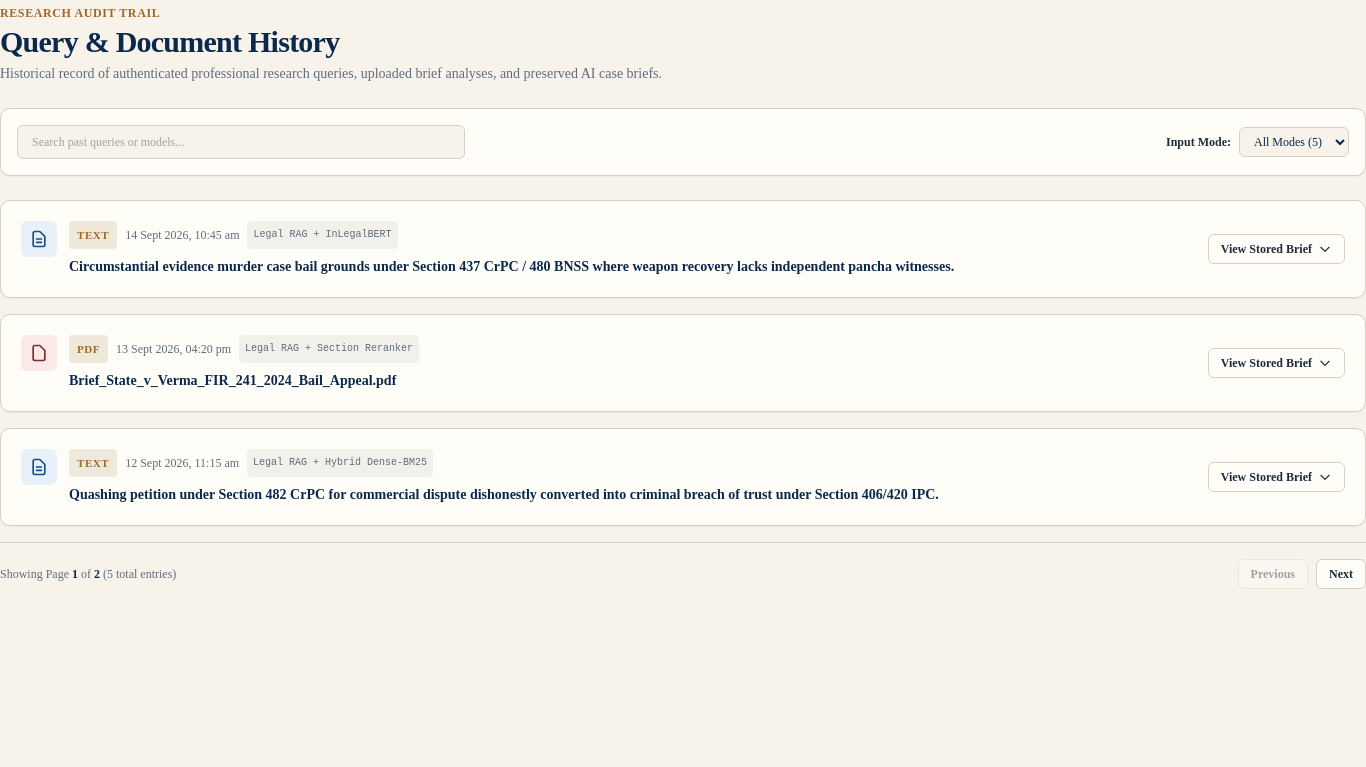
Professional Query History Page › expands stored case brief on button click
Check: the element with test id "history-list" is shown, box [0,200,1365,589]
Click the button "View Stored Brief" in the row of "Legal RAG + InLegalBERT" at (1276, 249), box [1208,234,1345,264]
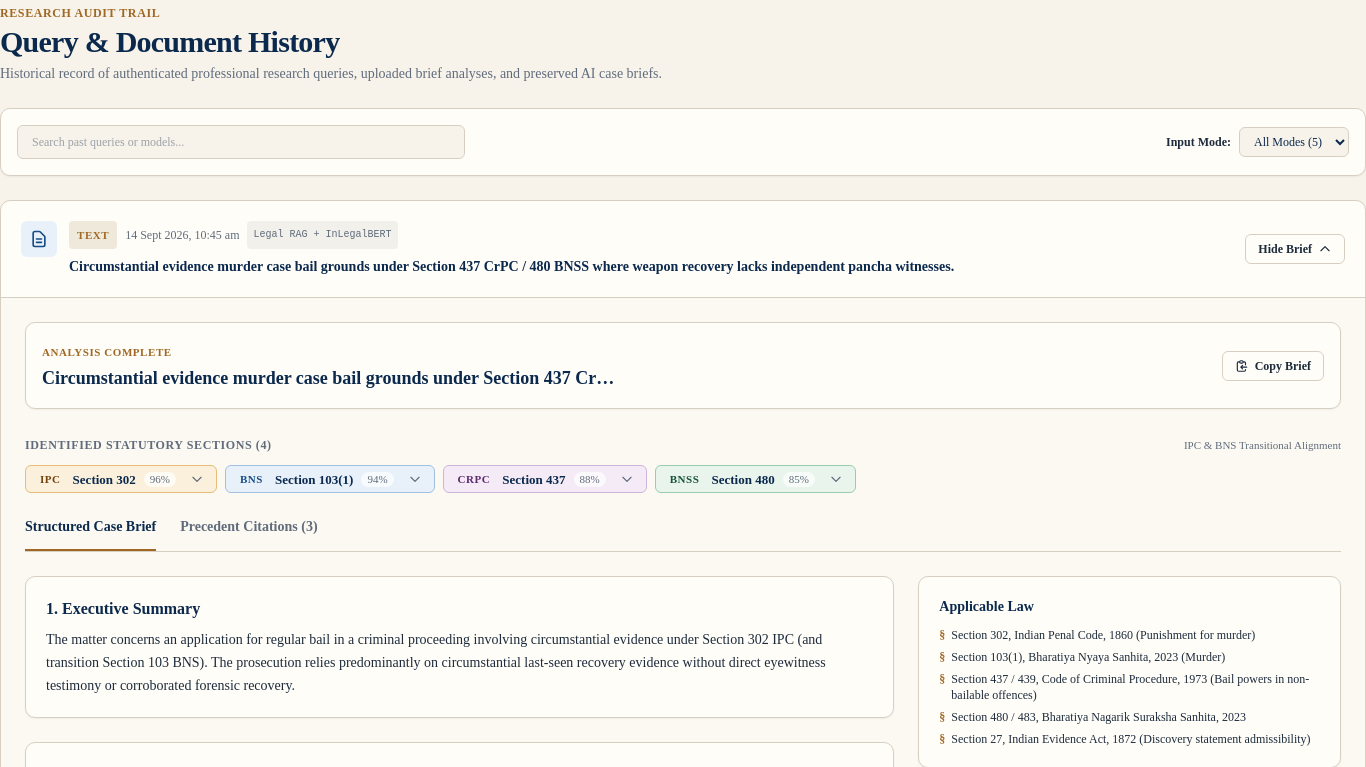
Check: the heading "1. Executive Summary" is shown, box [46,600,200,617]
Check: the button "Hide Brief" is shown
Note: Clicking Hide Brief collapses it
Click the button "Hide Brief" at (1295, 249), box [1245,234,1345,264]
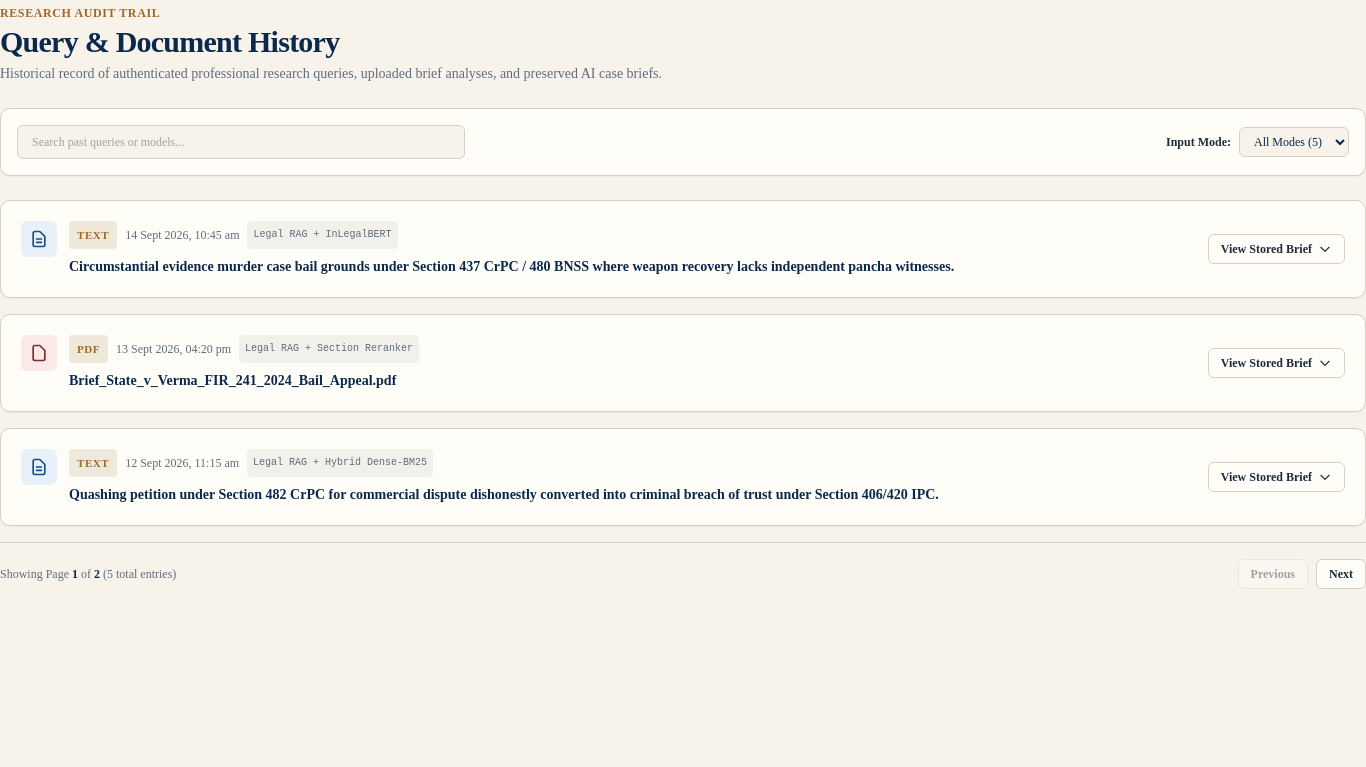
Check: the heading "1. Executive Summary" is gone
